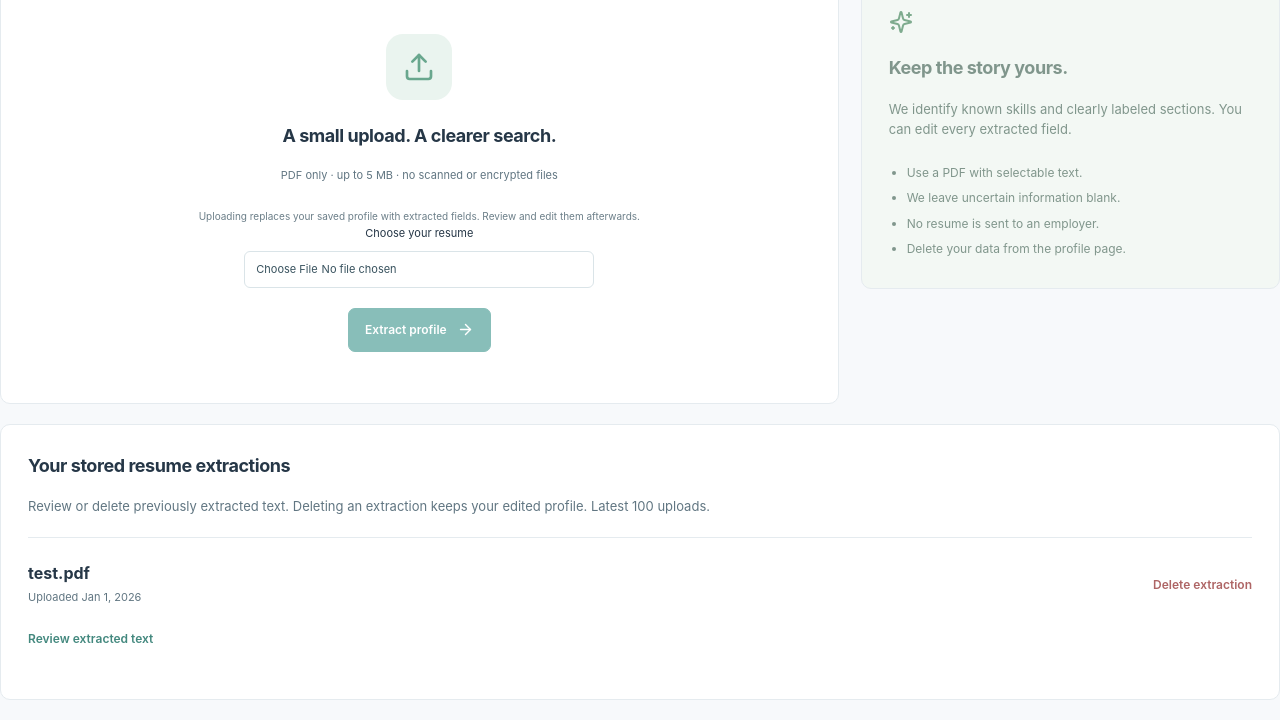
reviews and deletes a stored extraction through protected endpoints
(page scrolled)
Click the button "Review extracted text": (91, 638) top-left (28, 628), bottom-right (153, 648)
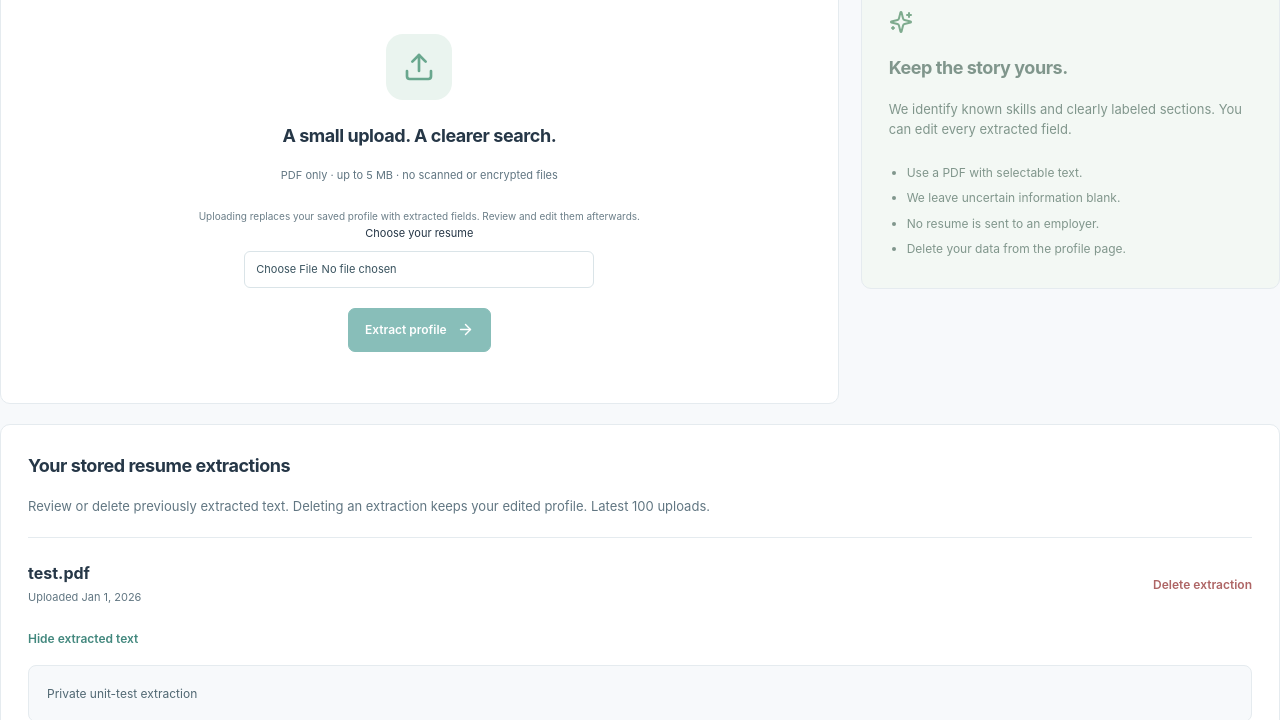
Click the button "Delete extraction": (1203, 584) top-left (1153, 575), bottom-right (1252, 594)
(page scrolled)
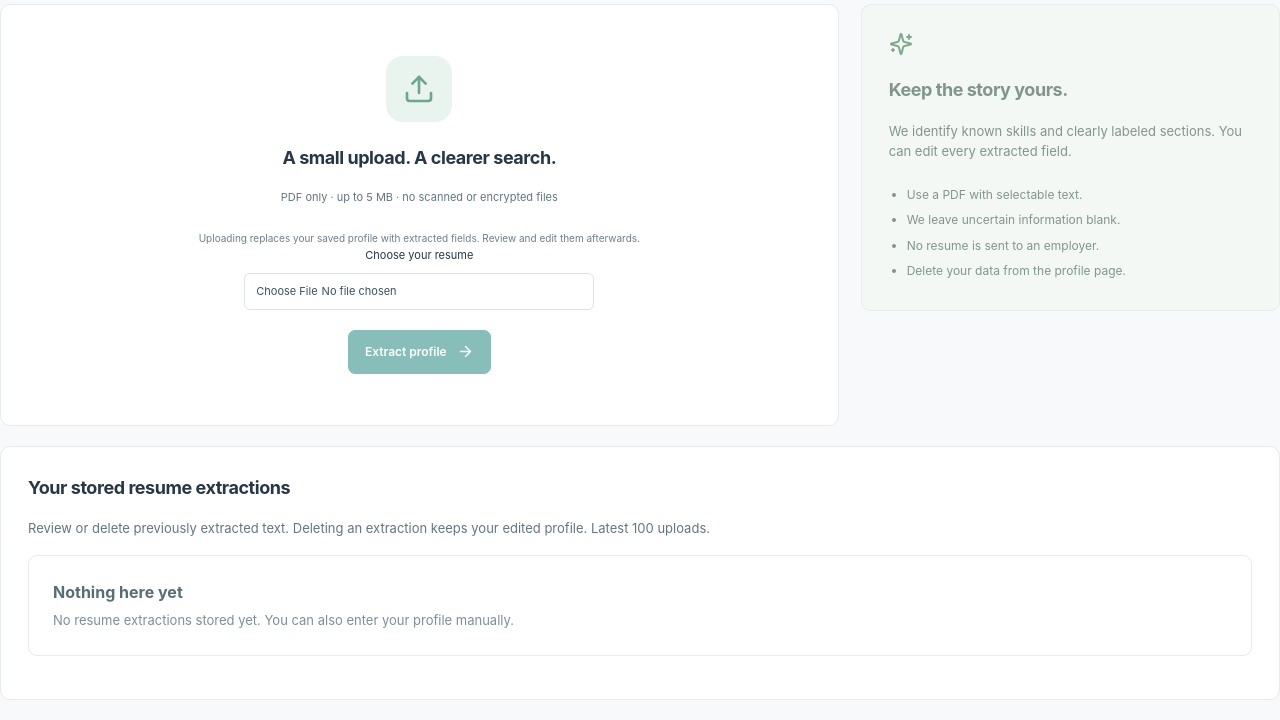
Expected: the text "No resume extractions stored yet" is shown, top-left (53, 612), bottom-right (514, 628)
